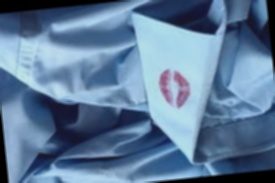lipstick: (154, 59, 194, 114)
